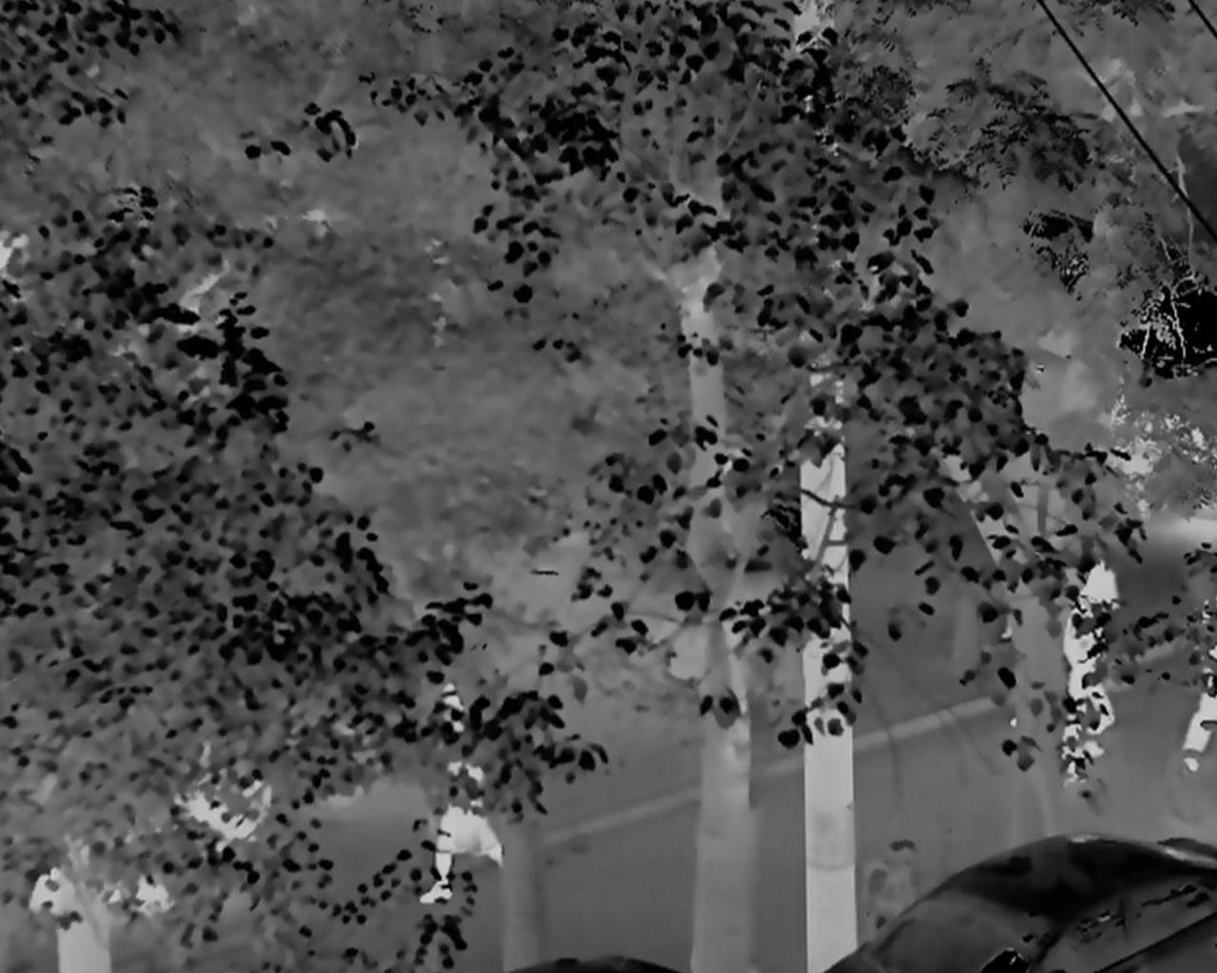person: (421, 678, 502, 906), (1062, 556, 1118, 786)
